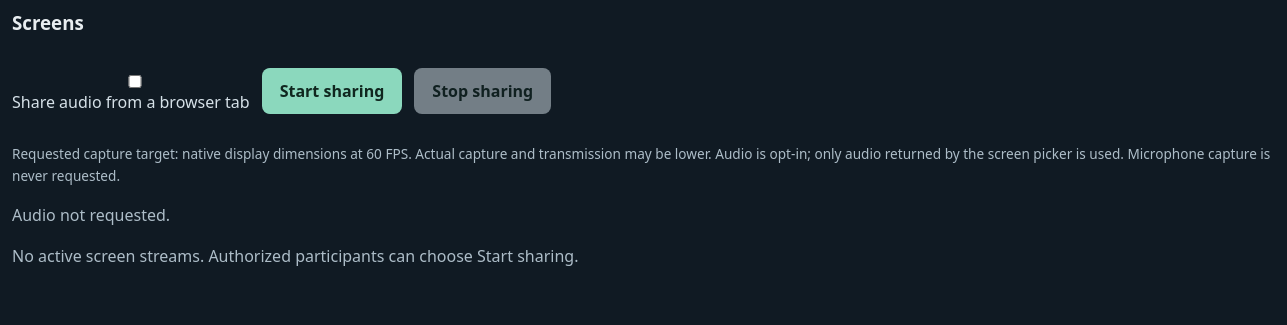
Test case: a lingering audio publication blocks a second capture rather than duplicating audio
The width and height of the screenshot is (1287, 325).
Click the button "Start sharing" at (332, 91), box left=262, top=68, right=402, bottom=114
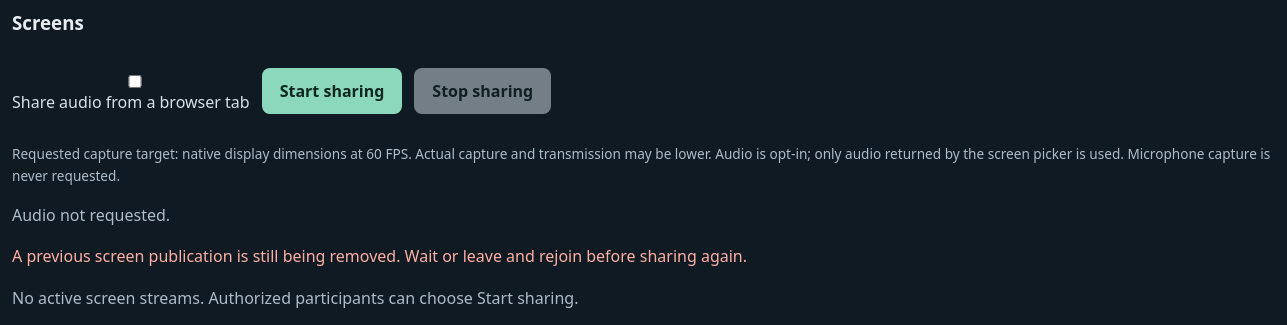
Expected: the 2nd message shows "previous screen publication", left=12, top=245, right=747, bottom=267
